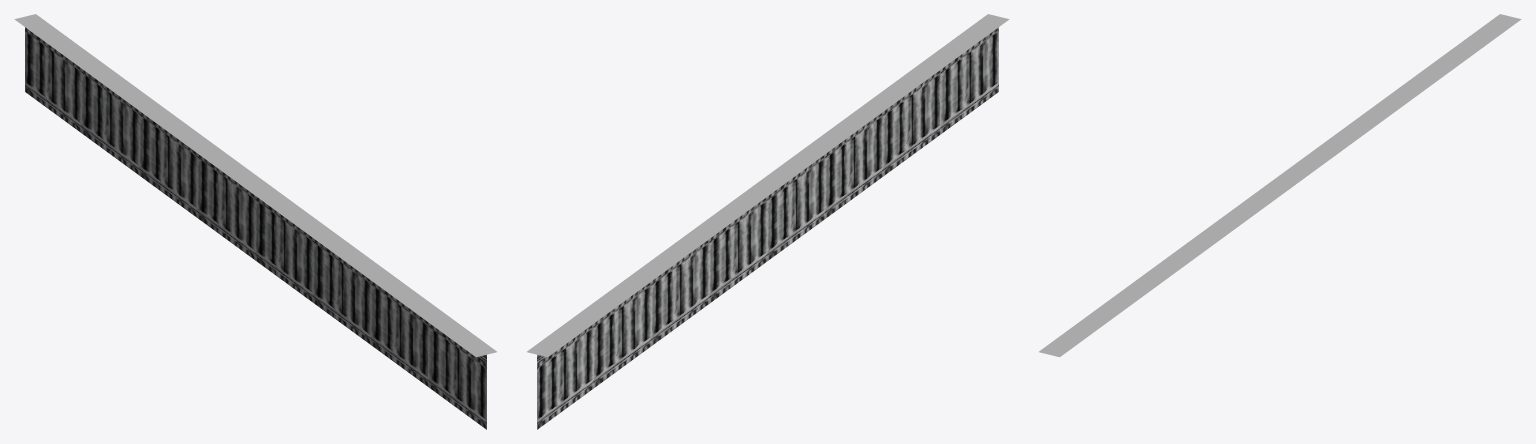
File: Geländer4Gedreht_2182.glb
3 renders of one model, left to right at view 1: azimuth 30°, elevation 25°; view 2: azimuth 150°, elevation 25°; view 3: azimuth 330°, elevation 25°, orthographic.
Visible parts, largest first — view 1: pPlaneShape223, pPlaneShape224; view 2: pPlaneShape223, pPlaneShape224; view 3: pPlaneShape224.
Part boxes in pixels (x1=…): pPlaneShape223: x1=25, y1=27, x2=486, y2=429; pPlaneShape224: x1=14, y1=14, x2=496, y2=357; pPlaneShape223: x1=537, y1=27, x2=998, y2=429; pPlaneShape224: x1=527, y1=14, x2=1009, y2=357; pPlaneShape224: x1=1039, y1=14, x2=1521, y2=357.
Size of the model in its own units: 0.0243 by 0.081 by 0.9007.
2 materials, 1 textured.
